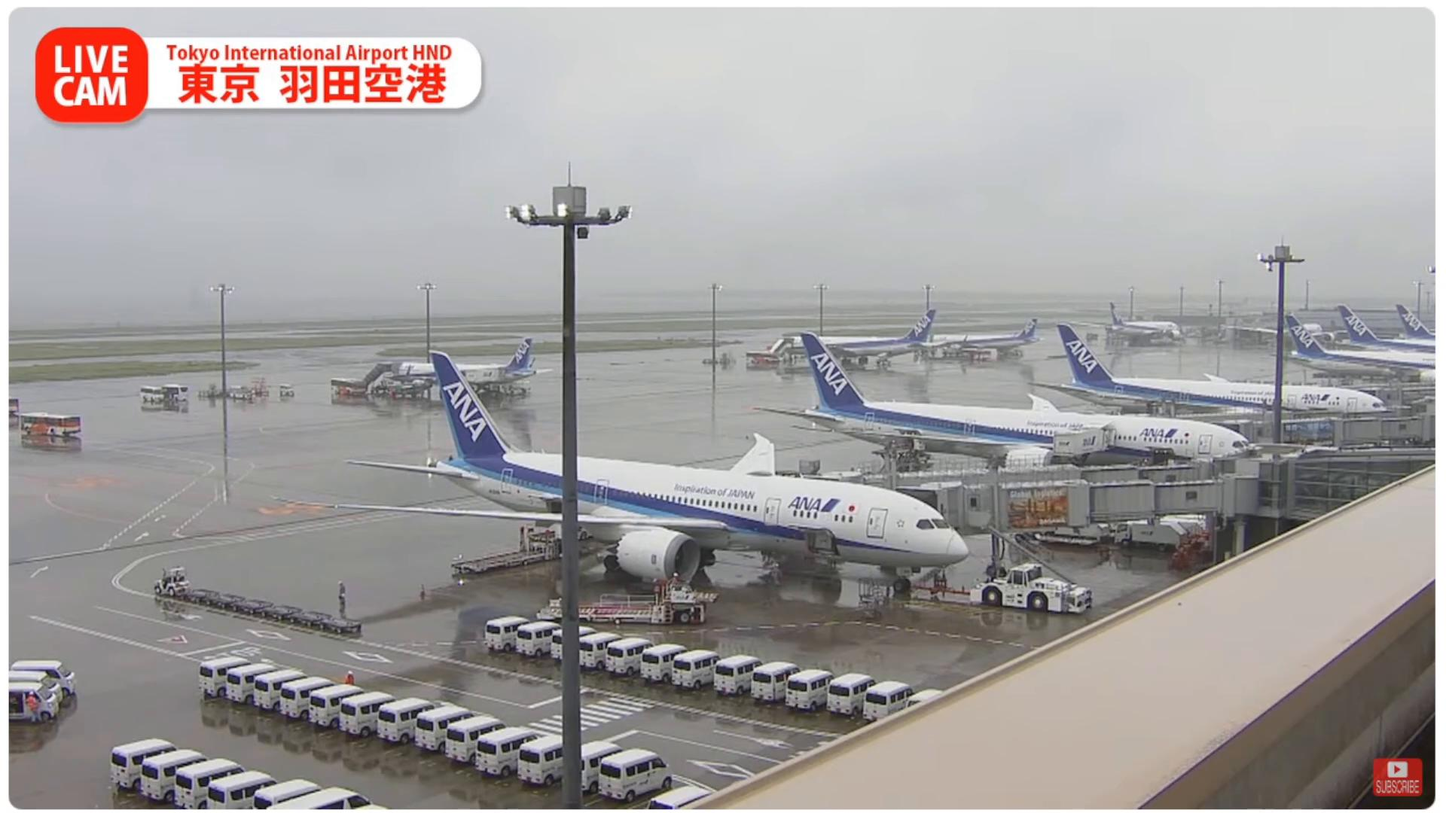APS: (969, 561, 1094, 613)
Aerobridge: (894, 451, 1258, 584), (795, 442, 1213, 488)
Airplane: (333, 353, 970, 591)
Dolly: (188, 587, 367, 638)
JCPL: (534, 580, 725, 623), (452, 521, 562, 576)
Tractor: (154, 567, 194, 601)
Window: (1293, 452, 1436, 515)
